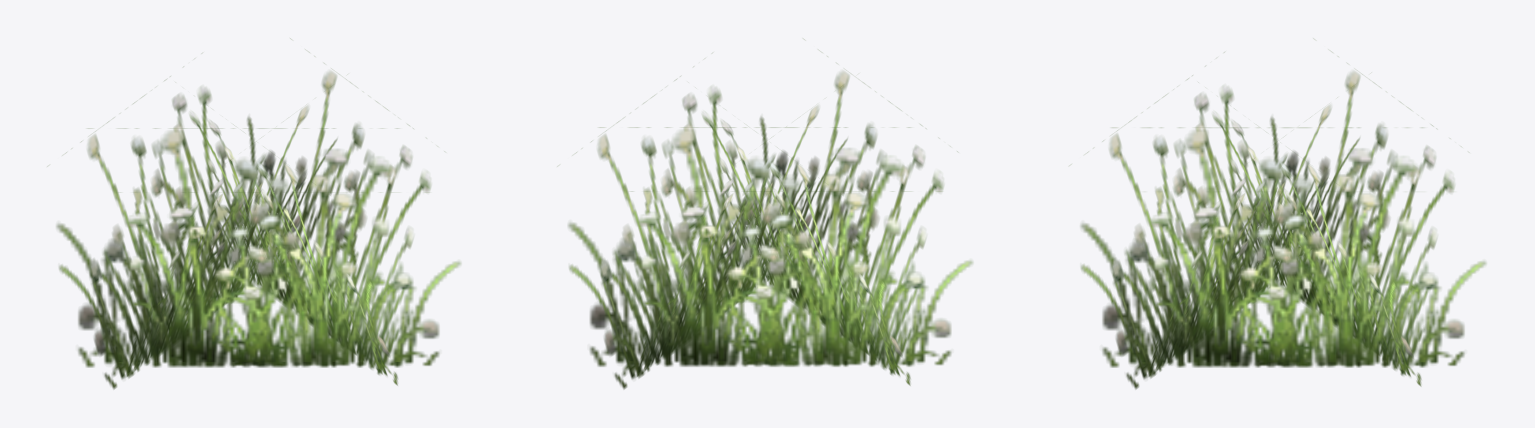
Rendered from grass-04.glb.
3 views of the same model, side by side, from view 1: azimuth 30°, elevation 25°; view 2: azimuth 150°, elevation 25°; view 3: azimuth 270°, elevation 25° (orthographic).
Parts seen in each view (by area): view 1: grass_la_tall_a; view 2: grass_la_tall_a; view 3: grass_la_tall_a.
Part boxes in pixels (x1,y1,x2,y2): grass_la_tall_a: [47, 38, 460, 389]; grass_la_tall_a: [557, 39, 972, 389]; grass_la_tall_a: [1069, 39, 1486, 389].
Size of the model in its own units: 6.92 by 3.22 by 6.82.
1 material, 1 textured.
